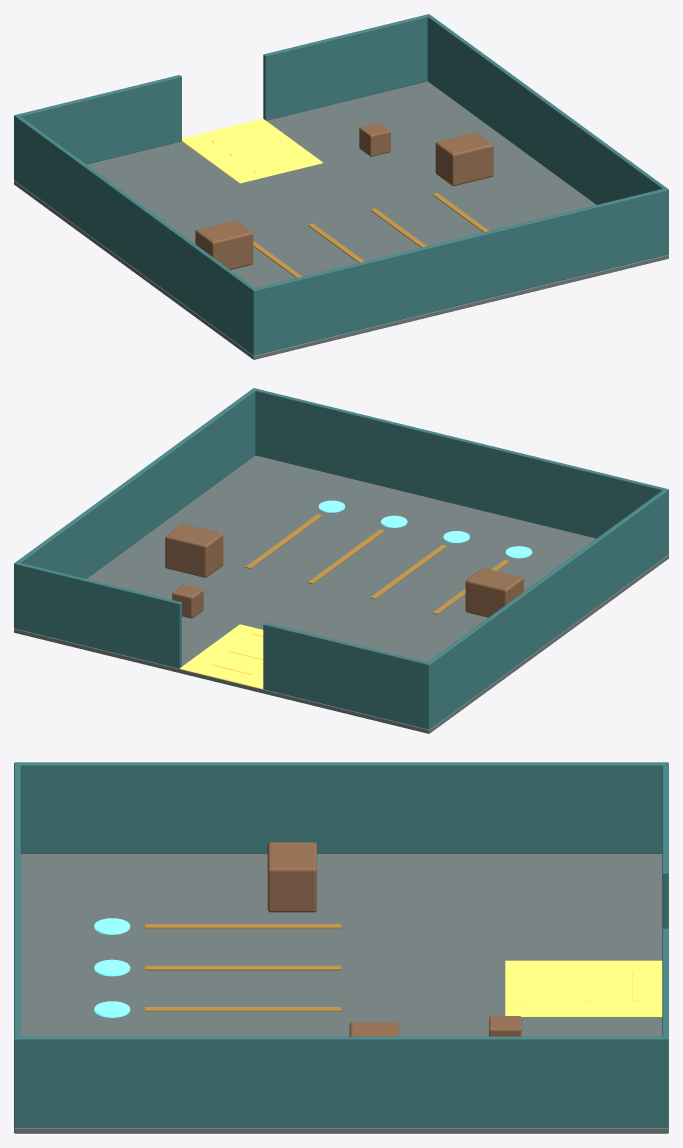
Rendered from saltglass_brine_docks_debug.glb.
3 renders of one model, top to bottom at view 1: azimuth 30°, elevation 25°; view 2: azimuth 150°, elevation 25°; view 3: azimuth 270°, elevation 25°, orthographic. The views are drawn at different scales.
Visible parts, largest first — view 1: GB_floor_brine_docks, GB_wall_south, GB_wall_west, GB_wall_east, GB_wall_north_east, GB_wall_north_west, GB_exit_route, GB_cover_crate_east, GB_cover_crate_west, GB_cover_bollard; view 2: GB_floor_brine_docks, GB_wall_south, GB_wall_west, GB_wall_east, GB_wall_north_west, GB_wall_north_east, GB_exit_route, GB_cover_crate_east, GB_cover_crate_west, GB_cover_bollard; view 3: GB_floor_brine_docks, GB_wall_east, GB_wall_west, GB_exit_route, GB_cover_crate_west, GB_wall_south, GB_lane_02, GB_wall_north_west, GB_wall_north_east, GB_lane_01, GB_lane_03, GB_cover_crate_east (+1 smaller).
Boxes of the visible parts, x1=… form: GB_floor_brine_docks: x1=14, y1=81, x2=668, y2=359; GB_wall_south: x1=251, y1=188, x2=668, y2=354; GB_wall_west: x1=15, y1=114, x2=257, y2=355; GB_wall_east: x1=427, y1=14, x2=668, y2=254; GB_wall_north_east: x1=263, y1=14, x2=429, y2=120; GB_wall_north_west: x1=14, y1=75, x2=181, y2=181; GB_exit_route: x1=182, y1=118, x2=322, y2=183; GB_cover_crate_east: x1=435, y1=132, x2=493, y2=186; GB_cover_crate_west: x1=195, y1=220, x2=253, y2=269; GB_cover_bollard: x1=359, y1=123, x2=390, y2=156; GB_floor_brine_docks: x1=14, y1=455, x2=668, y2=733; GB_wall_south: x1=252, y1=388, x2=668, y2=555; GB_wall_west: x1=425, y1=488, x2=668, y2=729; GB_wall_east: x1=14, y1=388, x2=255, y2=628; GB_wall_north_west: x1=263, y1=623, x2=431, y2=729; GB_wall_north_east: x1=14, y1=562, x2=181, y2=668; GB_exit_route: x1=180, y1=624, x2=263, y2=689; GB_cover_crate_east: x1=165, y1=524, x2=223, y2=577; GB_cover_crate_west: x1=465, y1=568, x2=523, y2=617; GB_cover_bollard: x1=172, y1=584, x2=203, y2=618; GB_floor_brine_docks: x1=14, y1=853, x2=668, y2=1133; GB_wall_east: x1=14, y1=1036, x2=668, y2=1127; GB_wall_west: x1=14, y1=762, x2=668, y2=853; GB_exit_route: x1=505, y1=960, x2=662, y2=1016; GB_cover_crate_west: x1=267, y1=842, x2=316, y2=912; GB_wall_south: x1=14, y1=762, x2=20, y2=1127; GB_lane_02: x1=145, y1=965, x2=341, y2=970; GB_wall_north_west: x1=662, y1=762, x2=668, y2=928; GB_wall_north_east: x1=662, y1=928, x2=668, y2=1127; GB_lane_01: x1=145, y1=924, x2=341, y2=928; GB_lane_03: x1=145, y1=1007, x2=341, y2=1011; GB_cover_crate_east: x1=349, y1=1022, x2=398, y2=1036.
Size of the model in its own units: 20 by 3.2 by 20.
